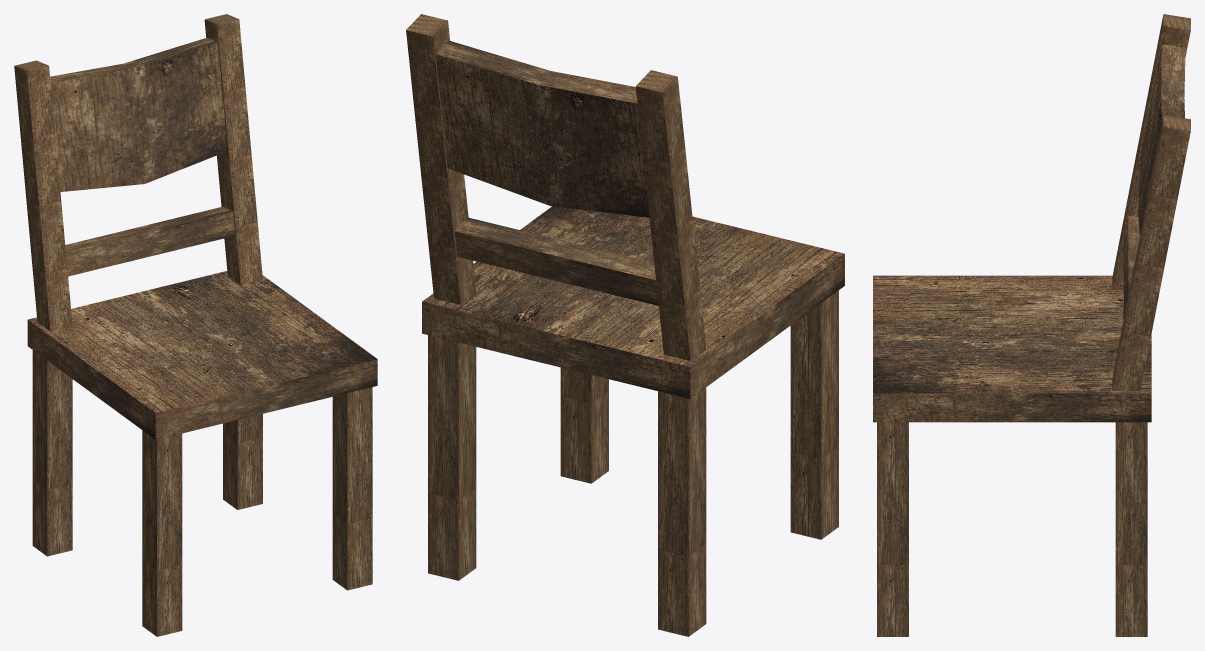
Rendered from chairie.fbx.
3 views of the same model, side by side, from view 1: azimuth 30°, elevation 25°; view 2: azimuth 150°, elevation 25°; view 3: azimuth 270°, elevation 25° (orthographic). The views are drawn at different scales.
Parts seen in each view (by area): view 1: Cube_3_3, Cube_2, Cube, Cube_2_3, Cube_2_2, Cube_3, Cube_3_2, Cube_1, Cube_1_2; view 2: Cube_3_3, Cube_2, Cube, Cube_3_2, Cube_1_2, Cube_2_3, Cube_3, Cube_1, Cube_2_2; view 3: Cube_3_3, Cube_3, Cube_1_2, Cube_2_2, Cube_2, Cube, Cube_1.
Boxes of the visible parts, x1=… form: Cube_3_3: x1=27, y1=271, x2=377, y2=439; Cube_2: x1=50, y1=38, x2=227, y2=191; Cube: x1=14, y1=60, x2=72, y2=331; Cube_2_3: x1=142, y1=430, x2=182, y2=636; Cube_2_2: x1=332, y1=387, x2=372, y2=590; Cube_3: x1=204, y1=14, x2=262, y2=284; Cube_3_2: x1=32, y1=350, x2=72, y2=556; Cube_1: x1=65, y1=206, x2=235, y2=276; Cube_1_2: x1=223, y1=414, x2=262, y2=509; Cube_3_3: x1=422, y1=206, x2=844, y2=398; Cube_2: x1=436, y1=40, x2=649, y2=217; Cube: x1=636, y1=70, x2=706, y2=360; Cube_3_2: x1=658, y1=387, x2=706, y2=636; Cube_1_2: x1=428, y1=335, x2=476, y2=580; Cube_2_3: x1=790, y1=290, x2=838, y2=539; Cube_3: x1=406, y1=14, x2=476, y2=304; Cube_1: x1=454, y1=217, x2=658, y2=305; Cube_2_2: x1=560, y1=367, x2=608, y2=483; Cube_3_3: x1=873, y1=275, x2=1151, y2=422; Cube_3: x1=1112, y1=115, x2=1190, y2=390; Cube_1_2: x1=1115, y1=422, x2=1147, y2=636; Cube_2_2: x1=877, y1=422, x2=908, y2=636; Cube_2: x1=1138, y1=44, x2=1185, y2=234; Cube: x1=1112, y1=14, x2=1190, y2=289; Cube_1: x1=1123, y1=215, x2=1139, y2=318.
Size of the model in its own units: 70 by 141 by 79.88.
7 materials, 7 textured.
